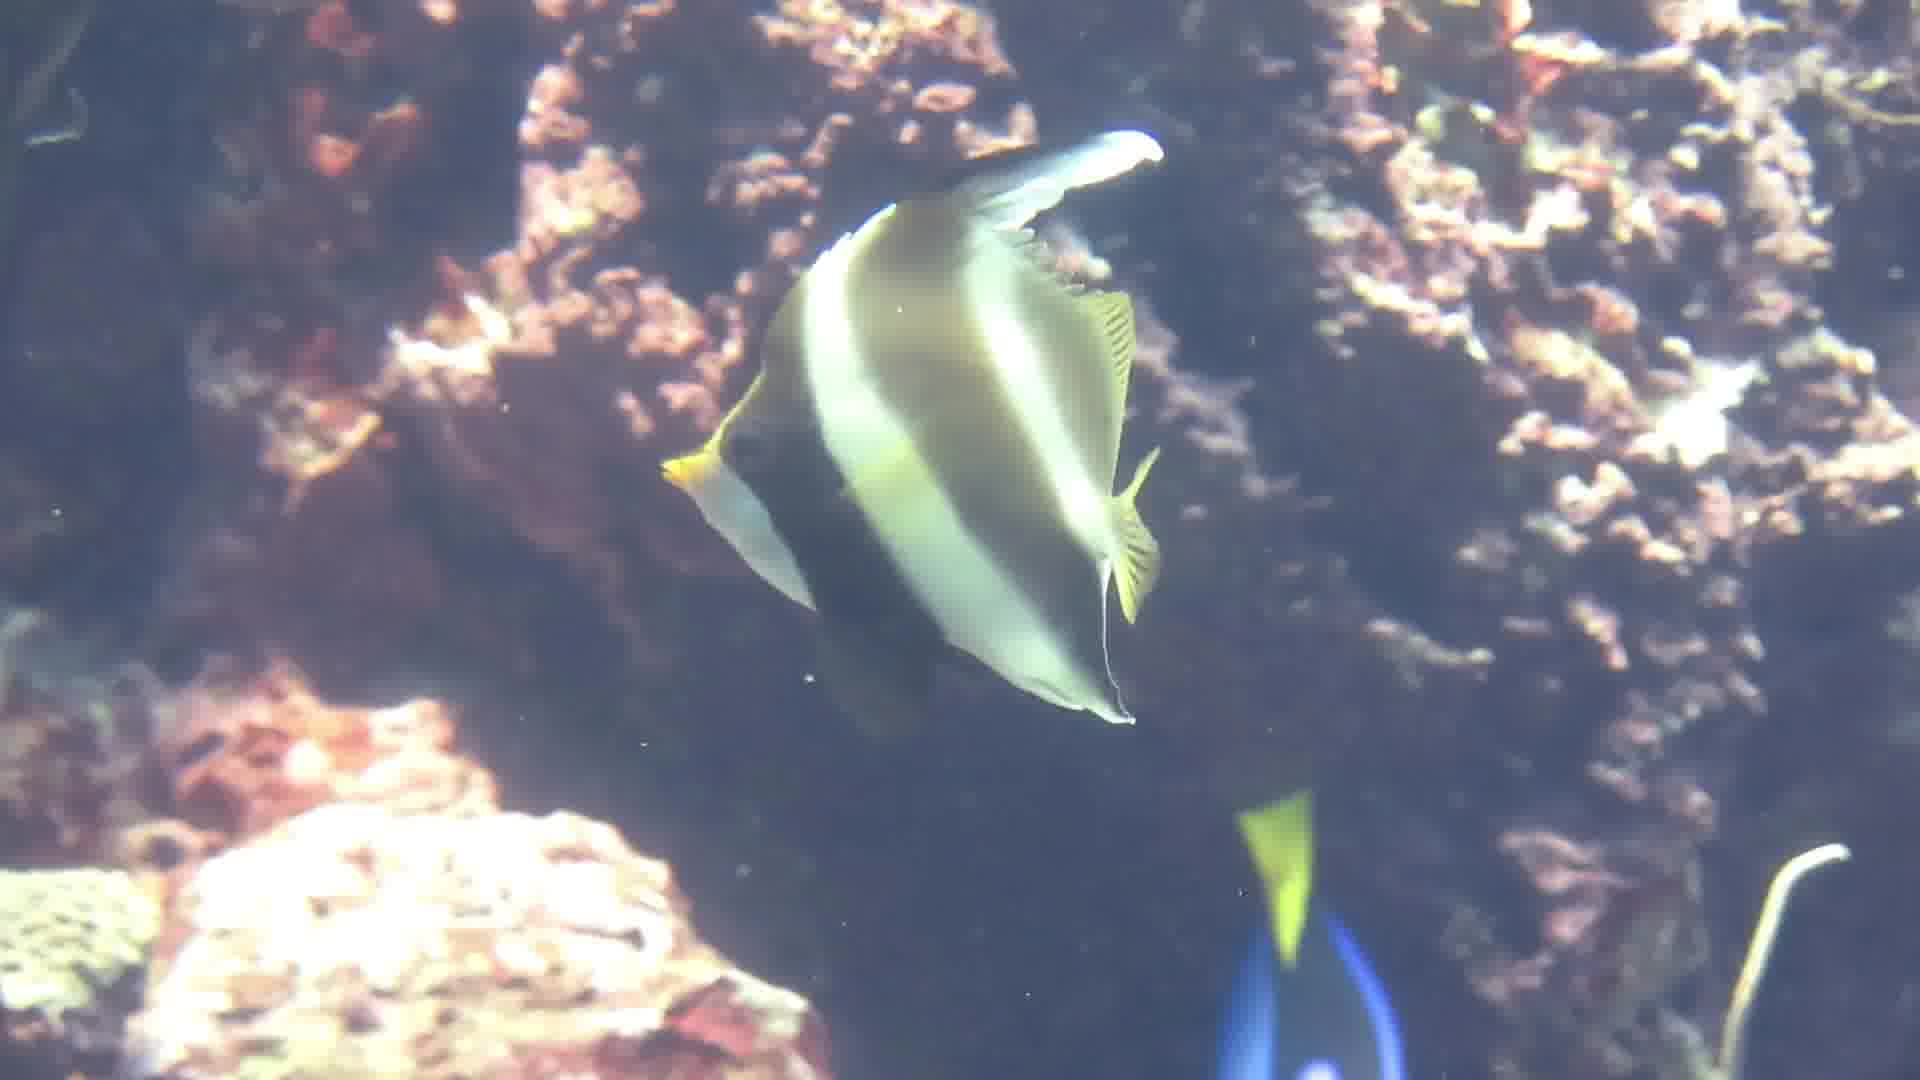Heniochus chrysostomus: (632, 96, 1195, 757)
